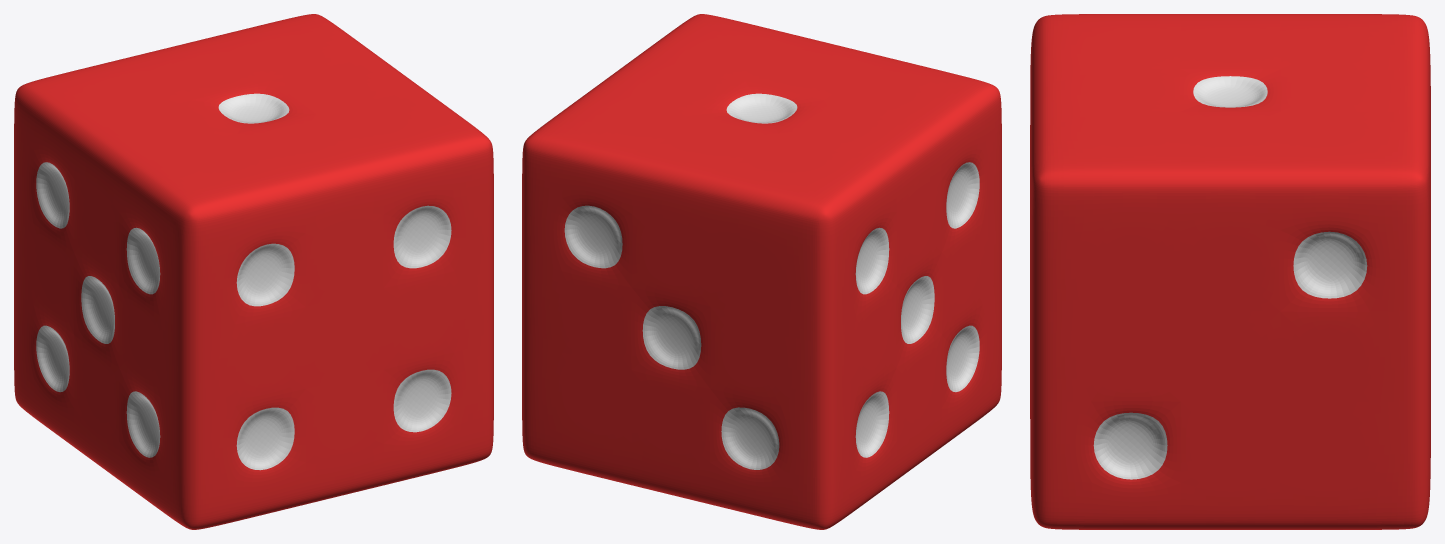
File: Dice.fbx
3 views of the same model, side by side, from view 1: azimuth 30°, elevation 25°; view 2: azimuth 150°, elevation 25°; view 3: azimuth 270°, elevation 25° (orthographic). The views are drawn at different scales.
Visible parts, largest first — view 1: Cube; view 2: Cube; view 3: Cube.
Part boxes in pixels (x1=…): Cube: x1=14, y1=14, x2=493, y2=529; Cube: x1=522, y1=14, x2=1001, y2=529; Cube: x1=1030, y1=14, x2=1430, y2=529.
Bounding box in the file's own units: 200 × 200 × 200.
